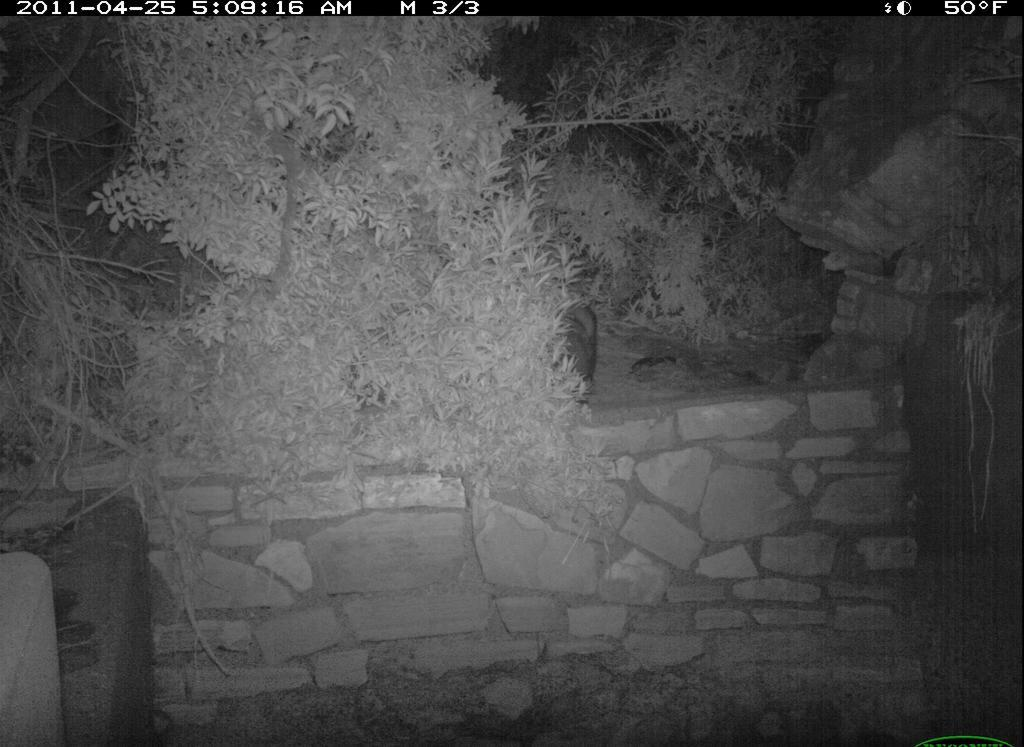cat: (552, 299, 615, 405)
